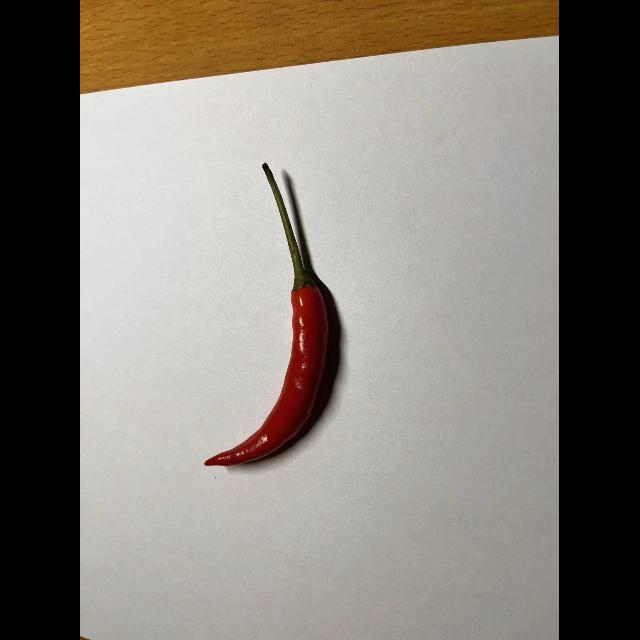chili_pepper: (196, 162, 357, 478)
